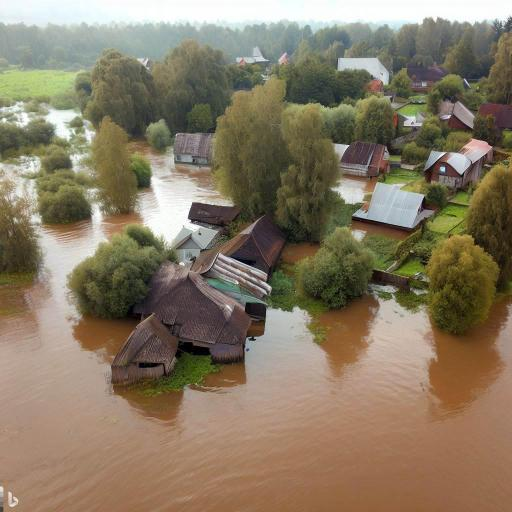flood: (0, 140, 512, 512), (0, 156, 38, 198), (45, 109, 93, 140), (350, 220, 412, 243), (334, 174, 378, 204), (282, 242, 321, 265), (2, 102, 30, 125)
house: (148, 256, 270, 358), (113, 312, 179, 388), (352, 181, 432, 231), (225, 215, 289, 275), (449, 134, 491, 194), (425, 144, 467, 196), (173, 129, 217, 174), (340, 138, 386, 181), (183, 203, 241, 227), (438, 96, 476, 132), (477, 101, 512, 129)
